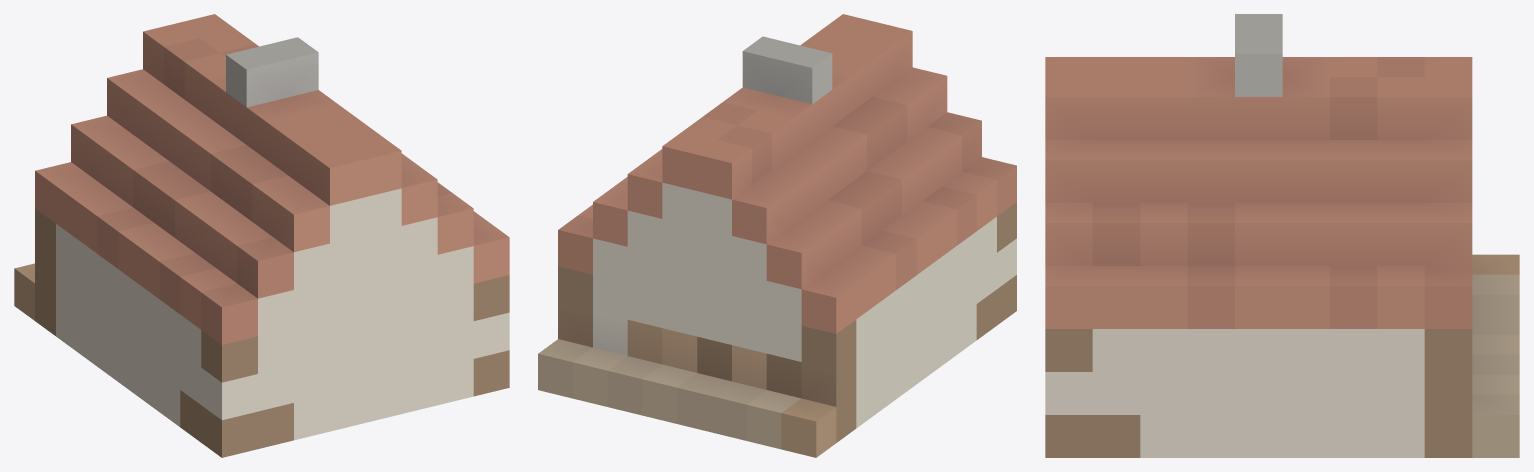
File: weaver_linen.lite.glb
The picture shows the model from 3 angles, left to right: view 1: azimuth 30°, elevation 25°; view 2: azimuth 150°, elevation 25°; view 3: azimuth 270°, elevation 25°; orthographic projection. The views are drawn at different scales.
Parts seen in each view (by area): view 1: weaver_linen; view 2: weaver_linen; view 3: weaver_linen.
Boxes of the visible parts, x1,y1,x2,y2 form: weaver_linen: (14, 14, 509, 457); weaver_linen: (538, 14, 1016, 457); weaver_linen: (1045, 14, 1519, 457).
Bounding box in the file's own units: 4 × 4 × 5.
